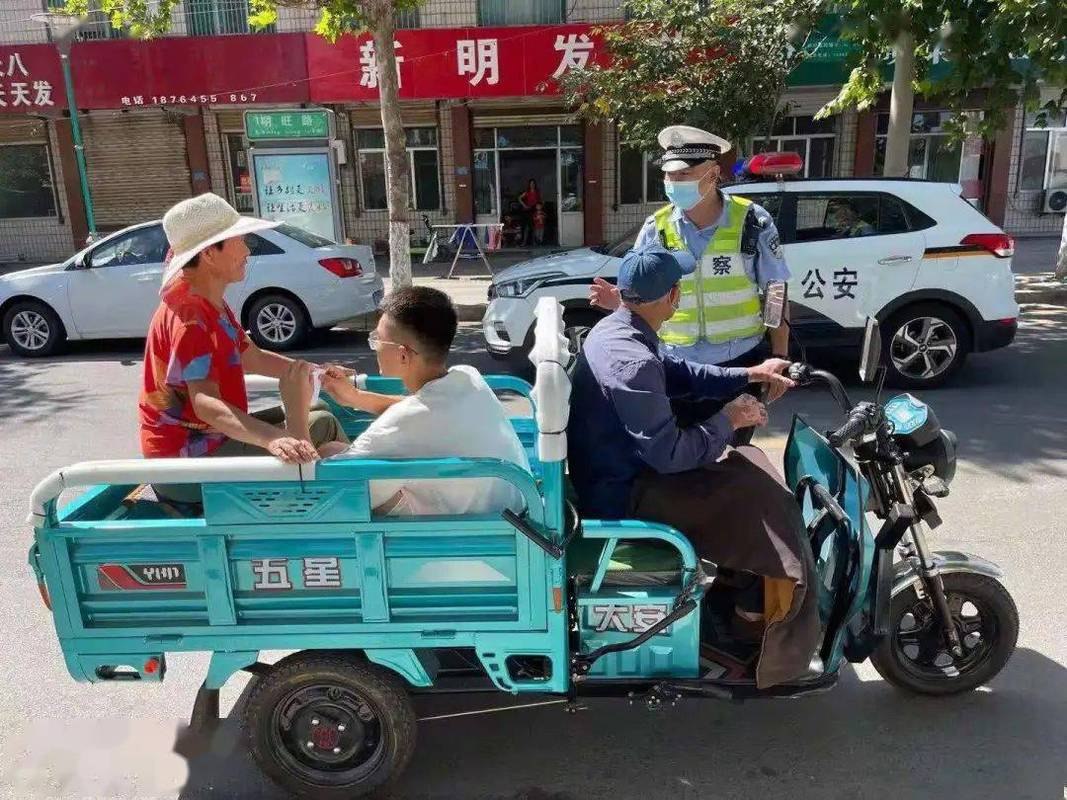driver: (577, 258, 822, 699)
overloading: (35, 202, 1046, 761)
passenger: (122, 193, 289, 510), (341, 283, 533, 543)
